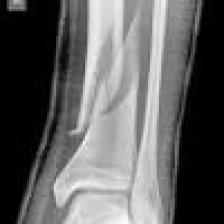comminuted-fracture: (9, 0, 215, 224)
